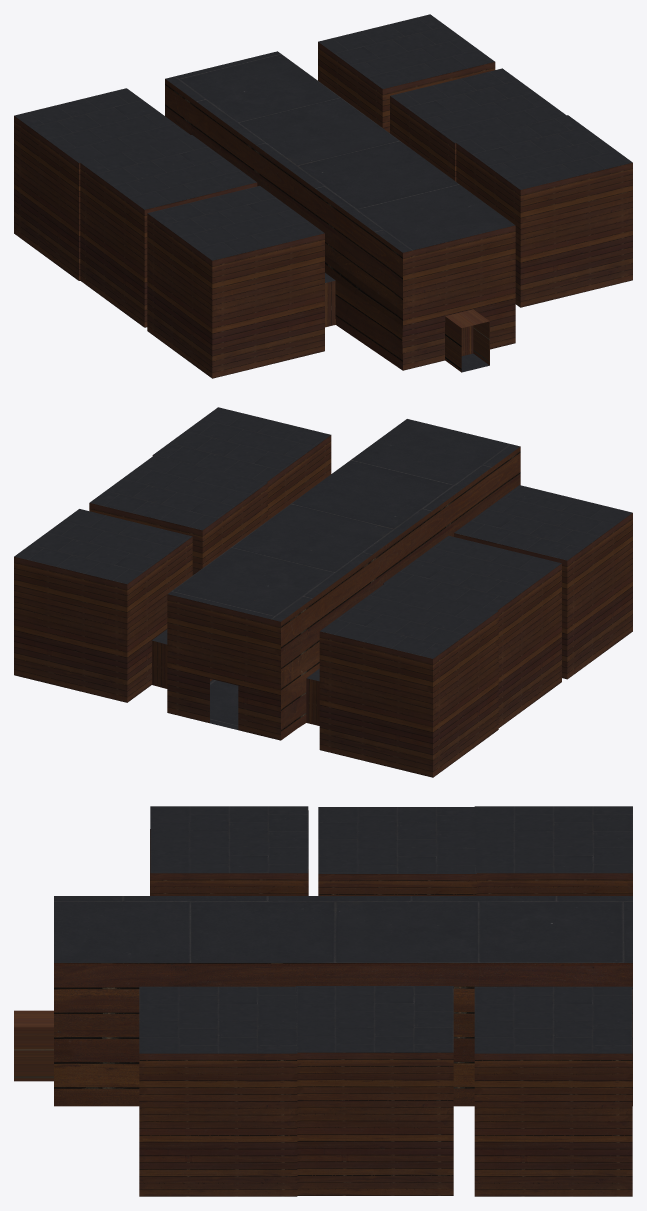
File: Office.fbx
The picture shows the model from 3 angles, top to bottom: view 1: azimuth 30°, elevation 25°; view 2: azimuth 150°, elevation 25°; view 3: azimuth 270°, elevation 25°; orthographic projection. The views are drawn at different scales.
Parts seen in each view (by area): view 1: Cube; view 2: Cube; view 3: Cube.
Boxes of the visible parts, x1,y1,x2,y2 form: Cube: [14, 14, 632, 378]; Cube: [14, 407, 632, 777]; Cube: [14, 806, 632, 1196].
Size of the model in its own units: 2961 by 802 by 3134.
